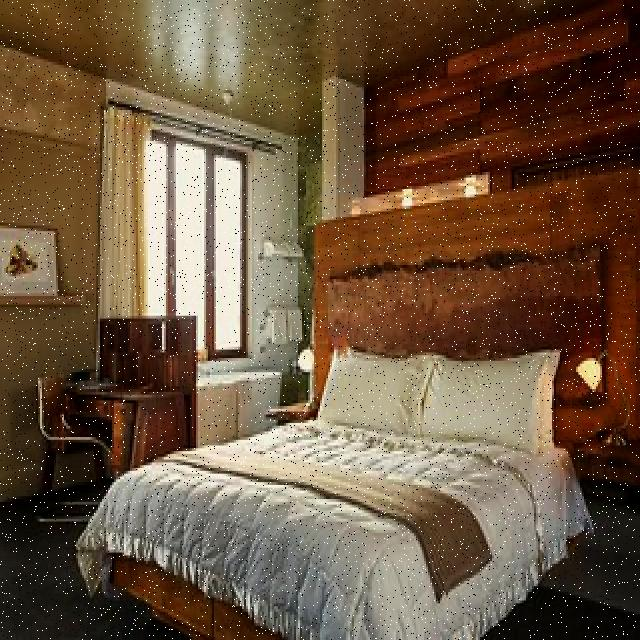bed: (94, 338, 575, 640)
